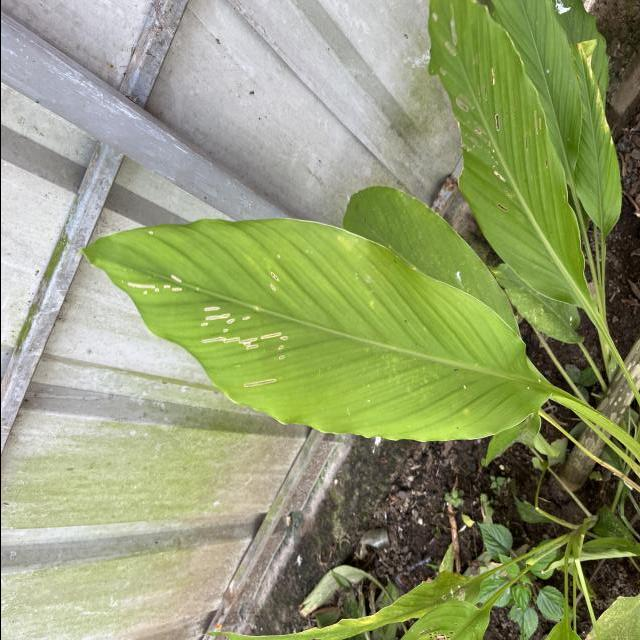Curcuma longa: (62, 212, 565, 452)
